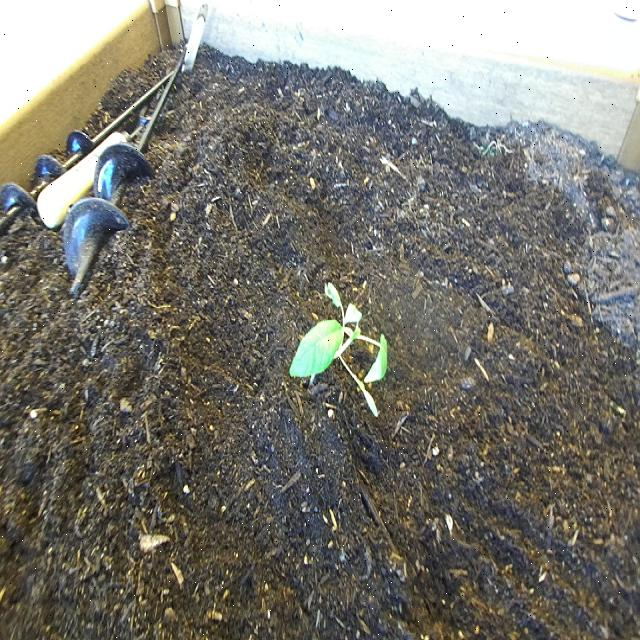Healthy: (280, 264, 408, 437)
